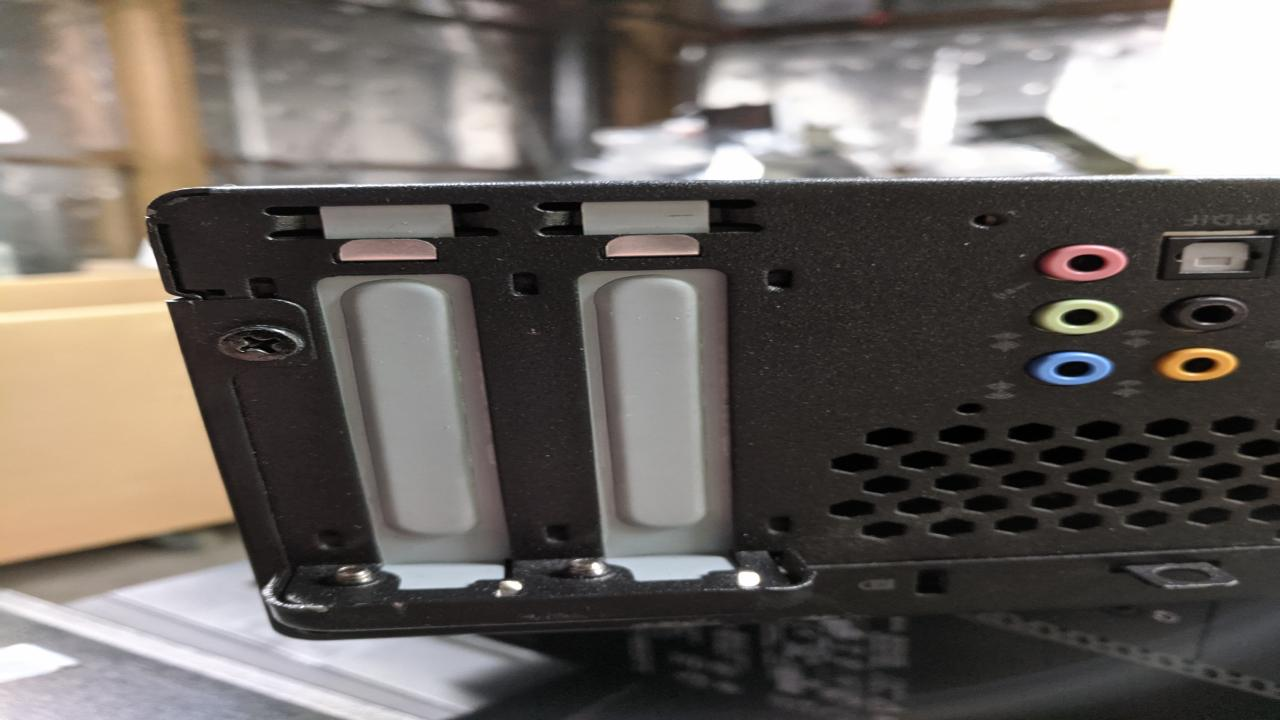CRS: (212, 324, 310, 362)
